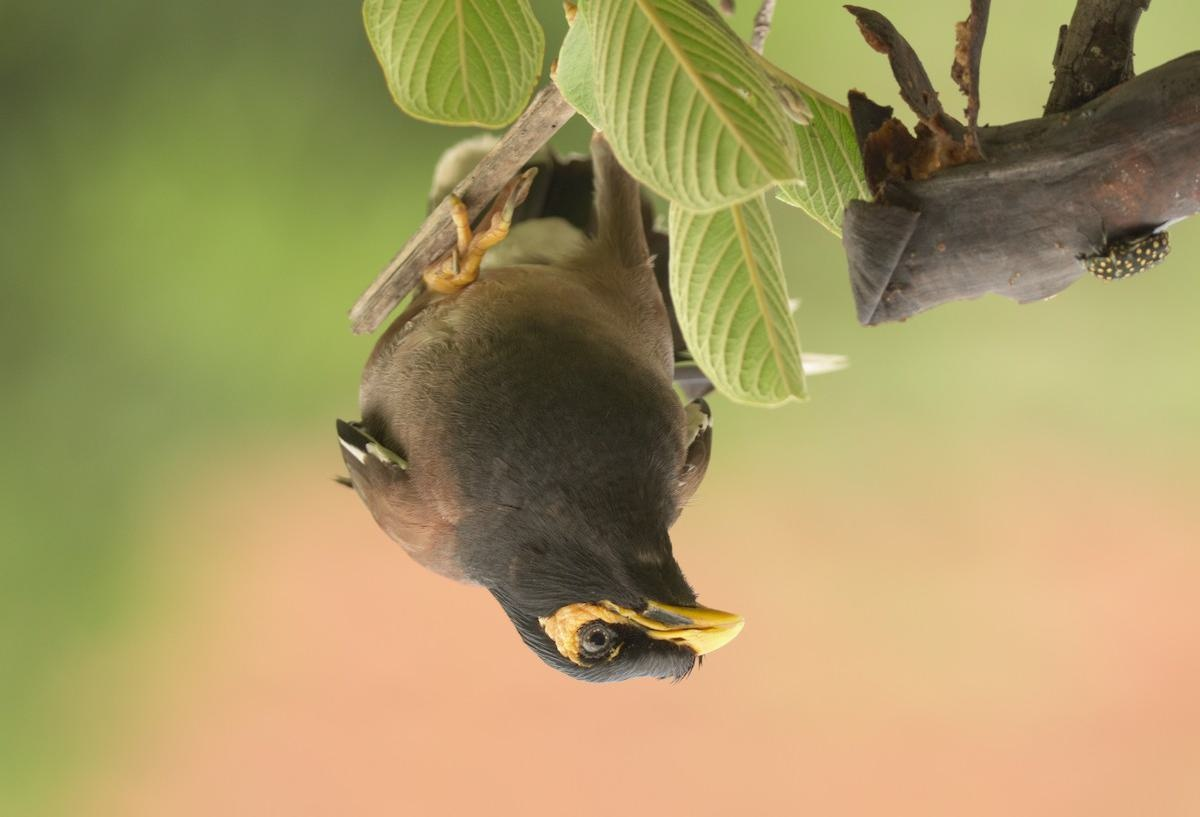myna: (317, 89, 763, 709)
